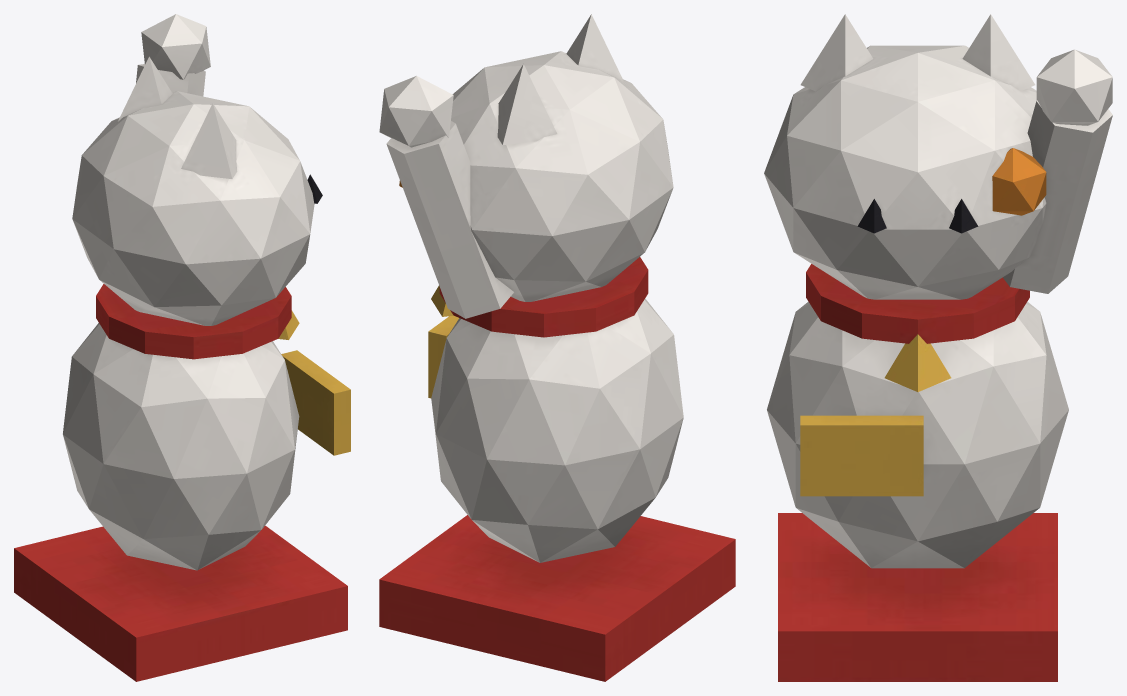
Rendered from maneki_neko_tex.glb.
3 views of the same model, side by side, from view 1: azimuth 30°, elevation 25°; view 2: azimuth 150°, elevation 25°; view 3: azimuth 270°, elevation 25° (orthographic). The views are drawn at different scales.
Visible parts, largest first — view 1: Katt, Tass; view 2: Katt, Tass; view 3: Katt, Tass.
Boxes of the visible parts, x1=… form: Katt: x1=14, y1=56, x2=350, y2=681; Tass: x1=136, y1=14, x2=210, y2=96; Katt: x1=379, y1=14, x2=735, y2=681; Tass: x1=379, y1=76, x2=513, y2=318; Katt: x1=764, y1=14, x2=1068, y2=681; Tass: x1=1003, y1=49, x2=1112, y2=293.
Size of the model in its own units: 0.54 by 1.2 by 0.6234.
5 materials, 5 textured.
